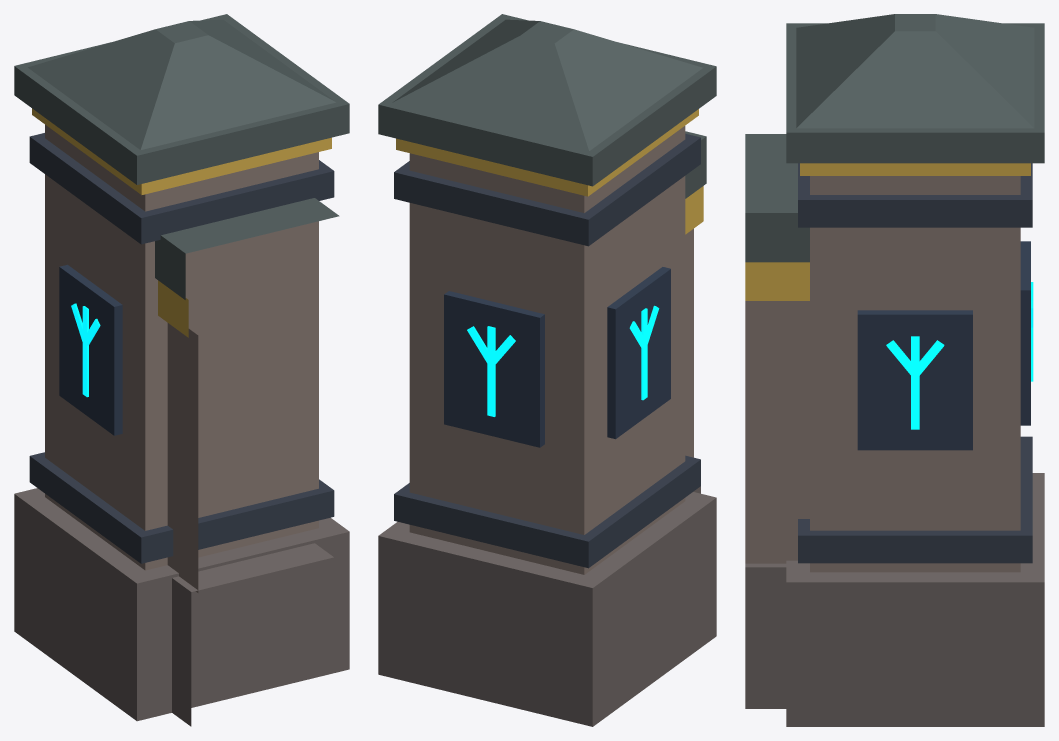
File: stone_wall_end_low.glb
3 views of the same model, side by side, from view 1: azimuth 30°, elevation 25°; view 2: azimuth 150°, elevation 25°; view 3: azimuth 270°, elevation 25° (orthographic). The views are drawn at different scales.
Parts seen in each view (by area): view 1: body, glow_runes; view 2: body, glow_runes; view 3: body, glow_runes.
Part boxes in pixels (x1,y1,x2,y2): body: (14, 14, 349, 726); glow_runes: (71, 303, 100, 397); body: (378, 14, 716, 726); glow_runes: (467, 305, 659, 416); body: (745, 14, 1044, 726); glow_runes: (886, 282, 1033, 429).
Size of the model in its own units: 0.76 by 2.11 by 0.88.
